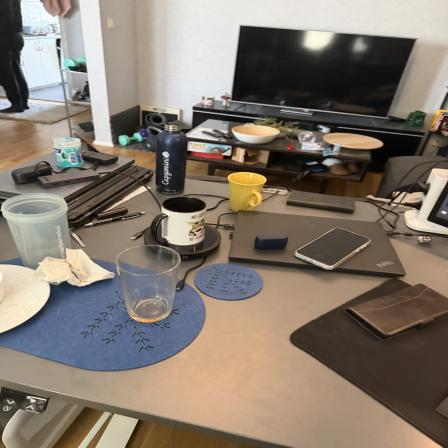blue_bottle: (154, 122, 190, 194)
phone: (349, 284, 448, 341), (288, 224, 372, 269), (286, 186, 360, 214)
yellow_cup: (228, 172, 267, 214)
